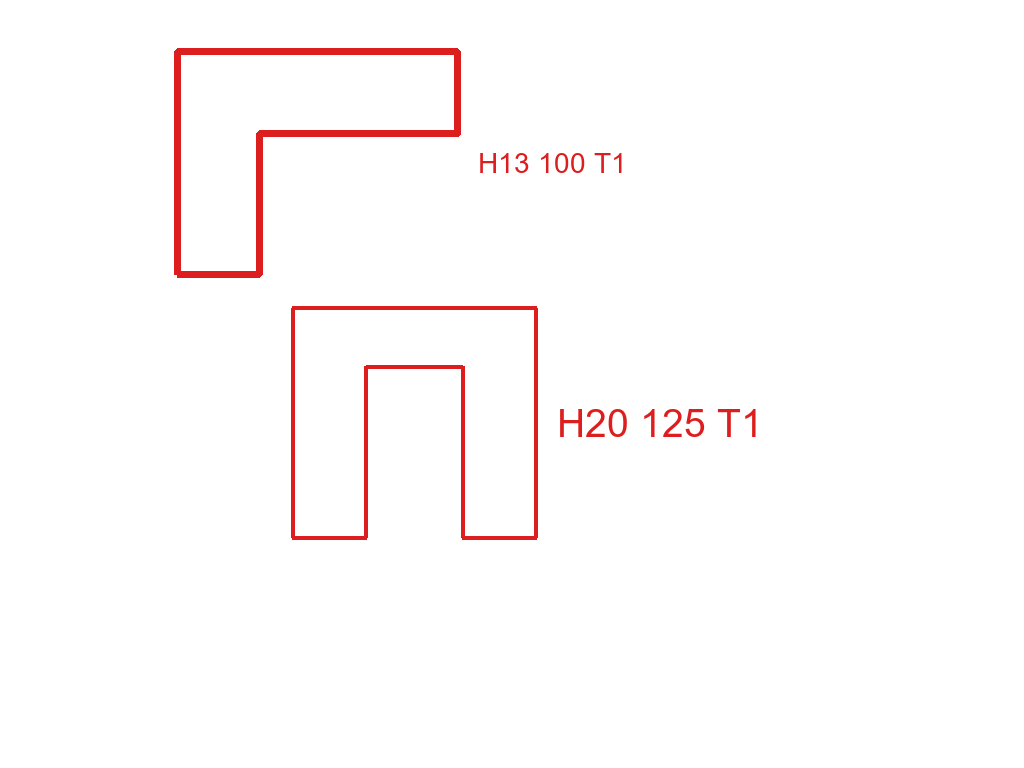shape: (172, 46, 463, 280), (288, 304, 541, 542)
text: (555, 407, 765, 439), (476, 151, 629, 175)
